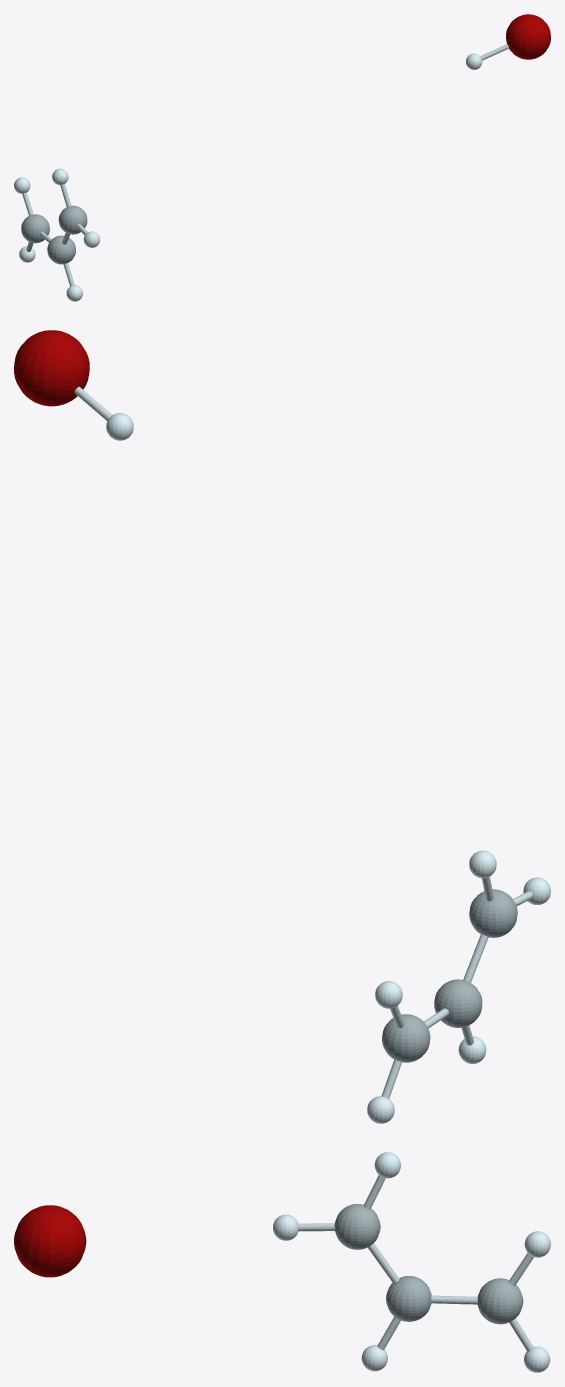
The model's file is irc_step_069.glb.
3 renders of one model, top to bottom at view 1: azimuth 30°, elevation 25°; view 2: azimuth 150°, elevation 25°; view 3: azimuth 270°, elevation 25°, orthographic. The views are drawn at different scales.
Visible parts, largest first — view 1: Renderer Node; view 2: Renderer Node; view 3: Renderer Node.
Boxes of the visible parts, x1,y1,x2,y2 form: Renderer Node: (14,14,550,301); Renderer Node: (14,330,550,1123); Renderer Node: (14,1152,550,1372).
Size of the model in its own units: 10.93 by 7.3 by 8.15.
